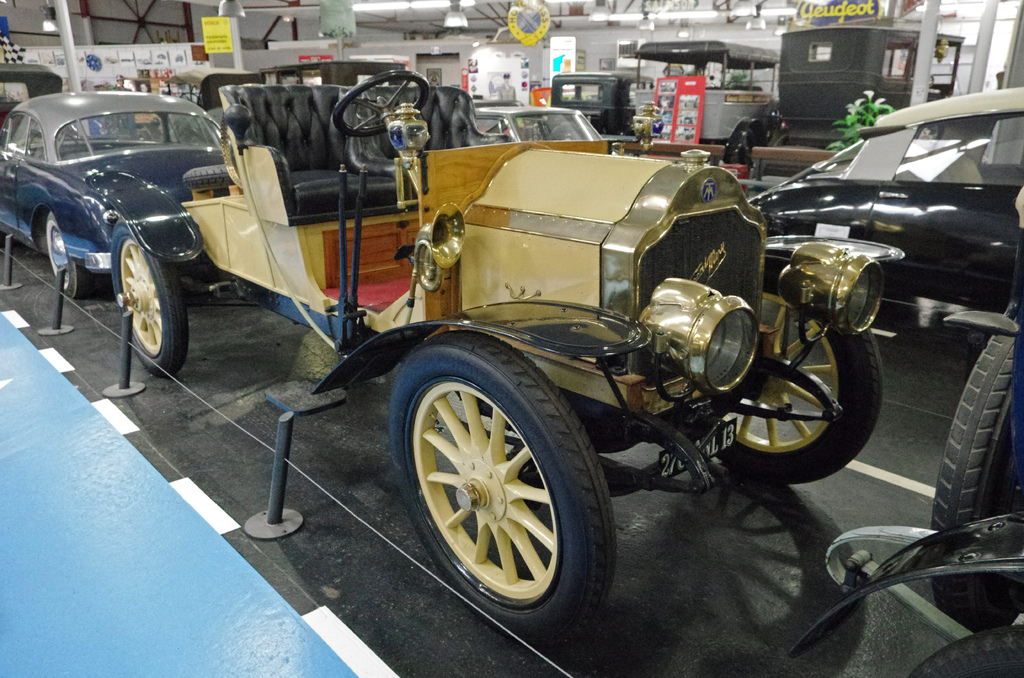mobil: (133, 66, 890, 529)
